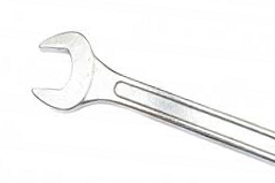Wrench: (21, 20, 275, 166)
